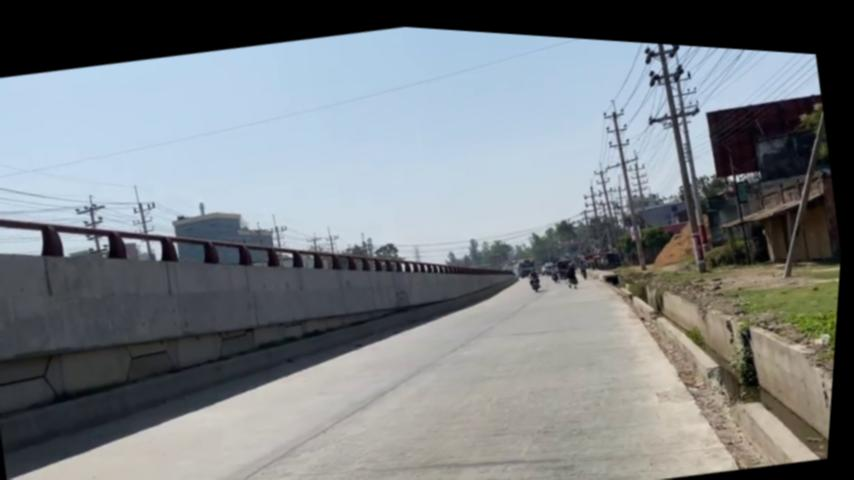Curb: (530, 266, 545, 285)
Fallen-tree: (0, 112, 541, 443)
Garbage: (635, 34, 721, 265), (753, 95, 851, 269), (592, 87, 660, 265)
Garbage-bin: (708, 307, 840, 465)
